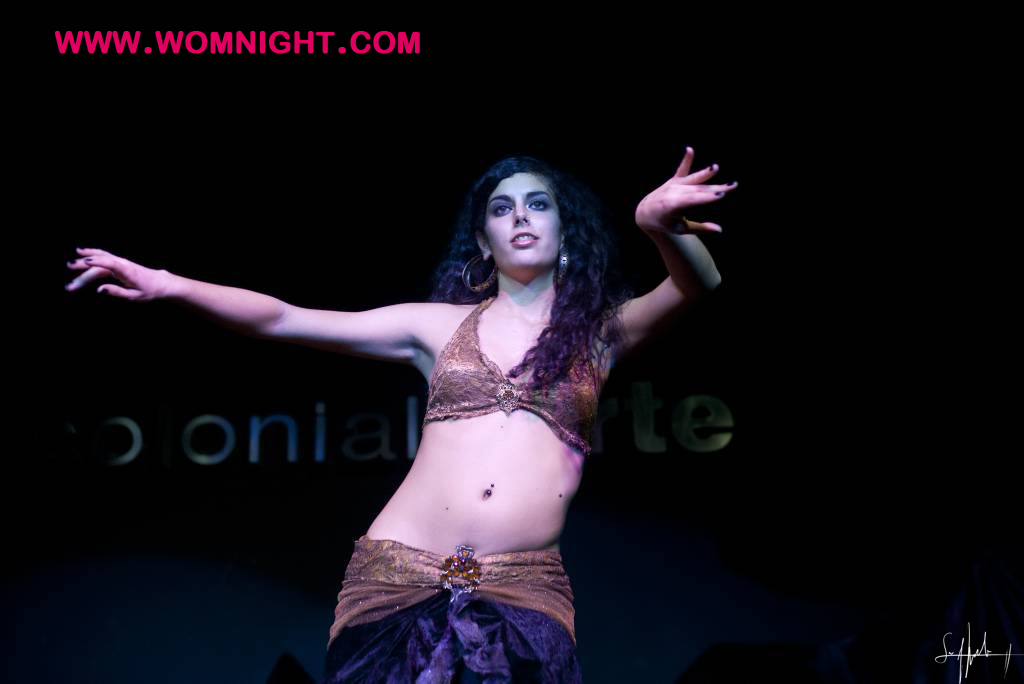Human_hand: (632, 146, 739, 236), (65, 248, 169, 303)
